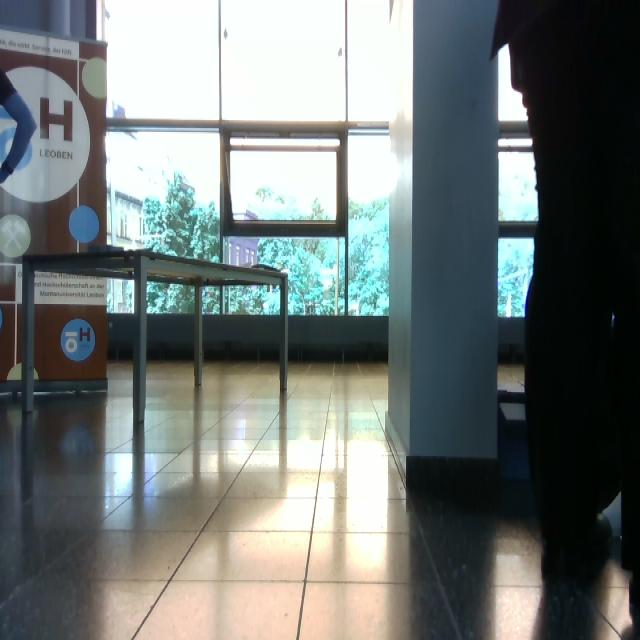door: (1, 25, 110, 392)
light bulb: (347, 133, 400, 205), (1, 215, 32, 259), (69, 205, 100, 244)
person: (490, 1, 640, 640)
pillar: (388, 1, 501, 478)
table: (20, 246, 292, 428)
tiled floor: (2, 359, 637, 639)
window: (101, 1, 396, 321)
